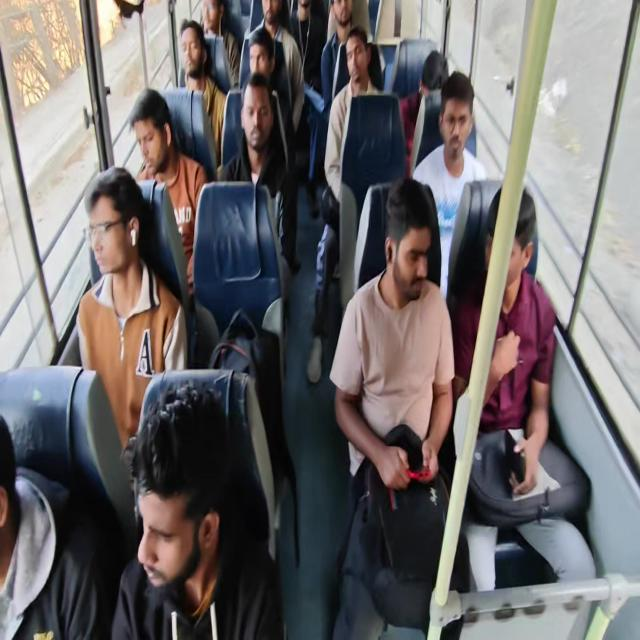person: (123, 392, 231, 595), (81, 165, 155, 285), (378, 177, 439, 319), (481, 181, 546, 305), (1, 409, 32, 561), (133, 96, 183, 179), (442, 71, 472, 167), (234, 86, 275, 154), (240, 24, 274, 91), (344, 27, 380, 82), (176, 18, 203, 81), (416, 48, 452, 92), (329, 0, 362, 36), (256, 0, 286, 32), (200, 0, 228, 34), (293, 0, 315, 15)
